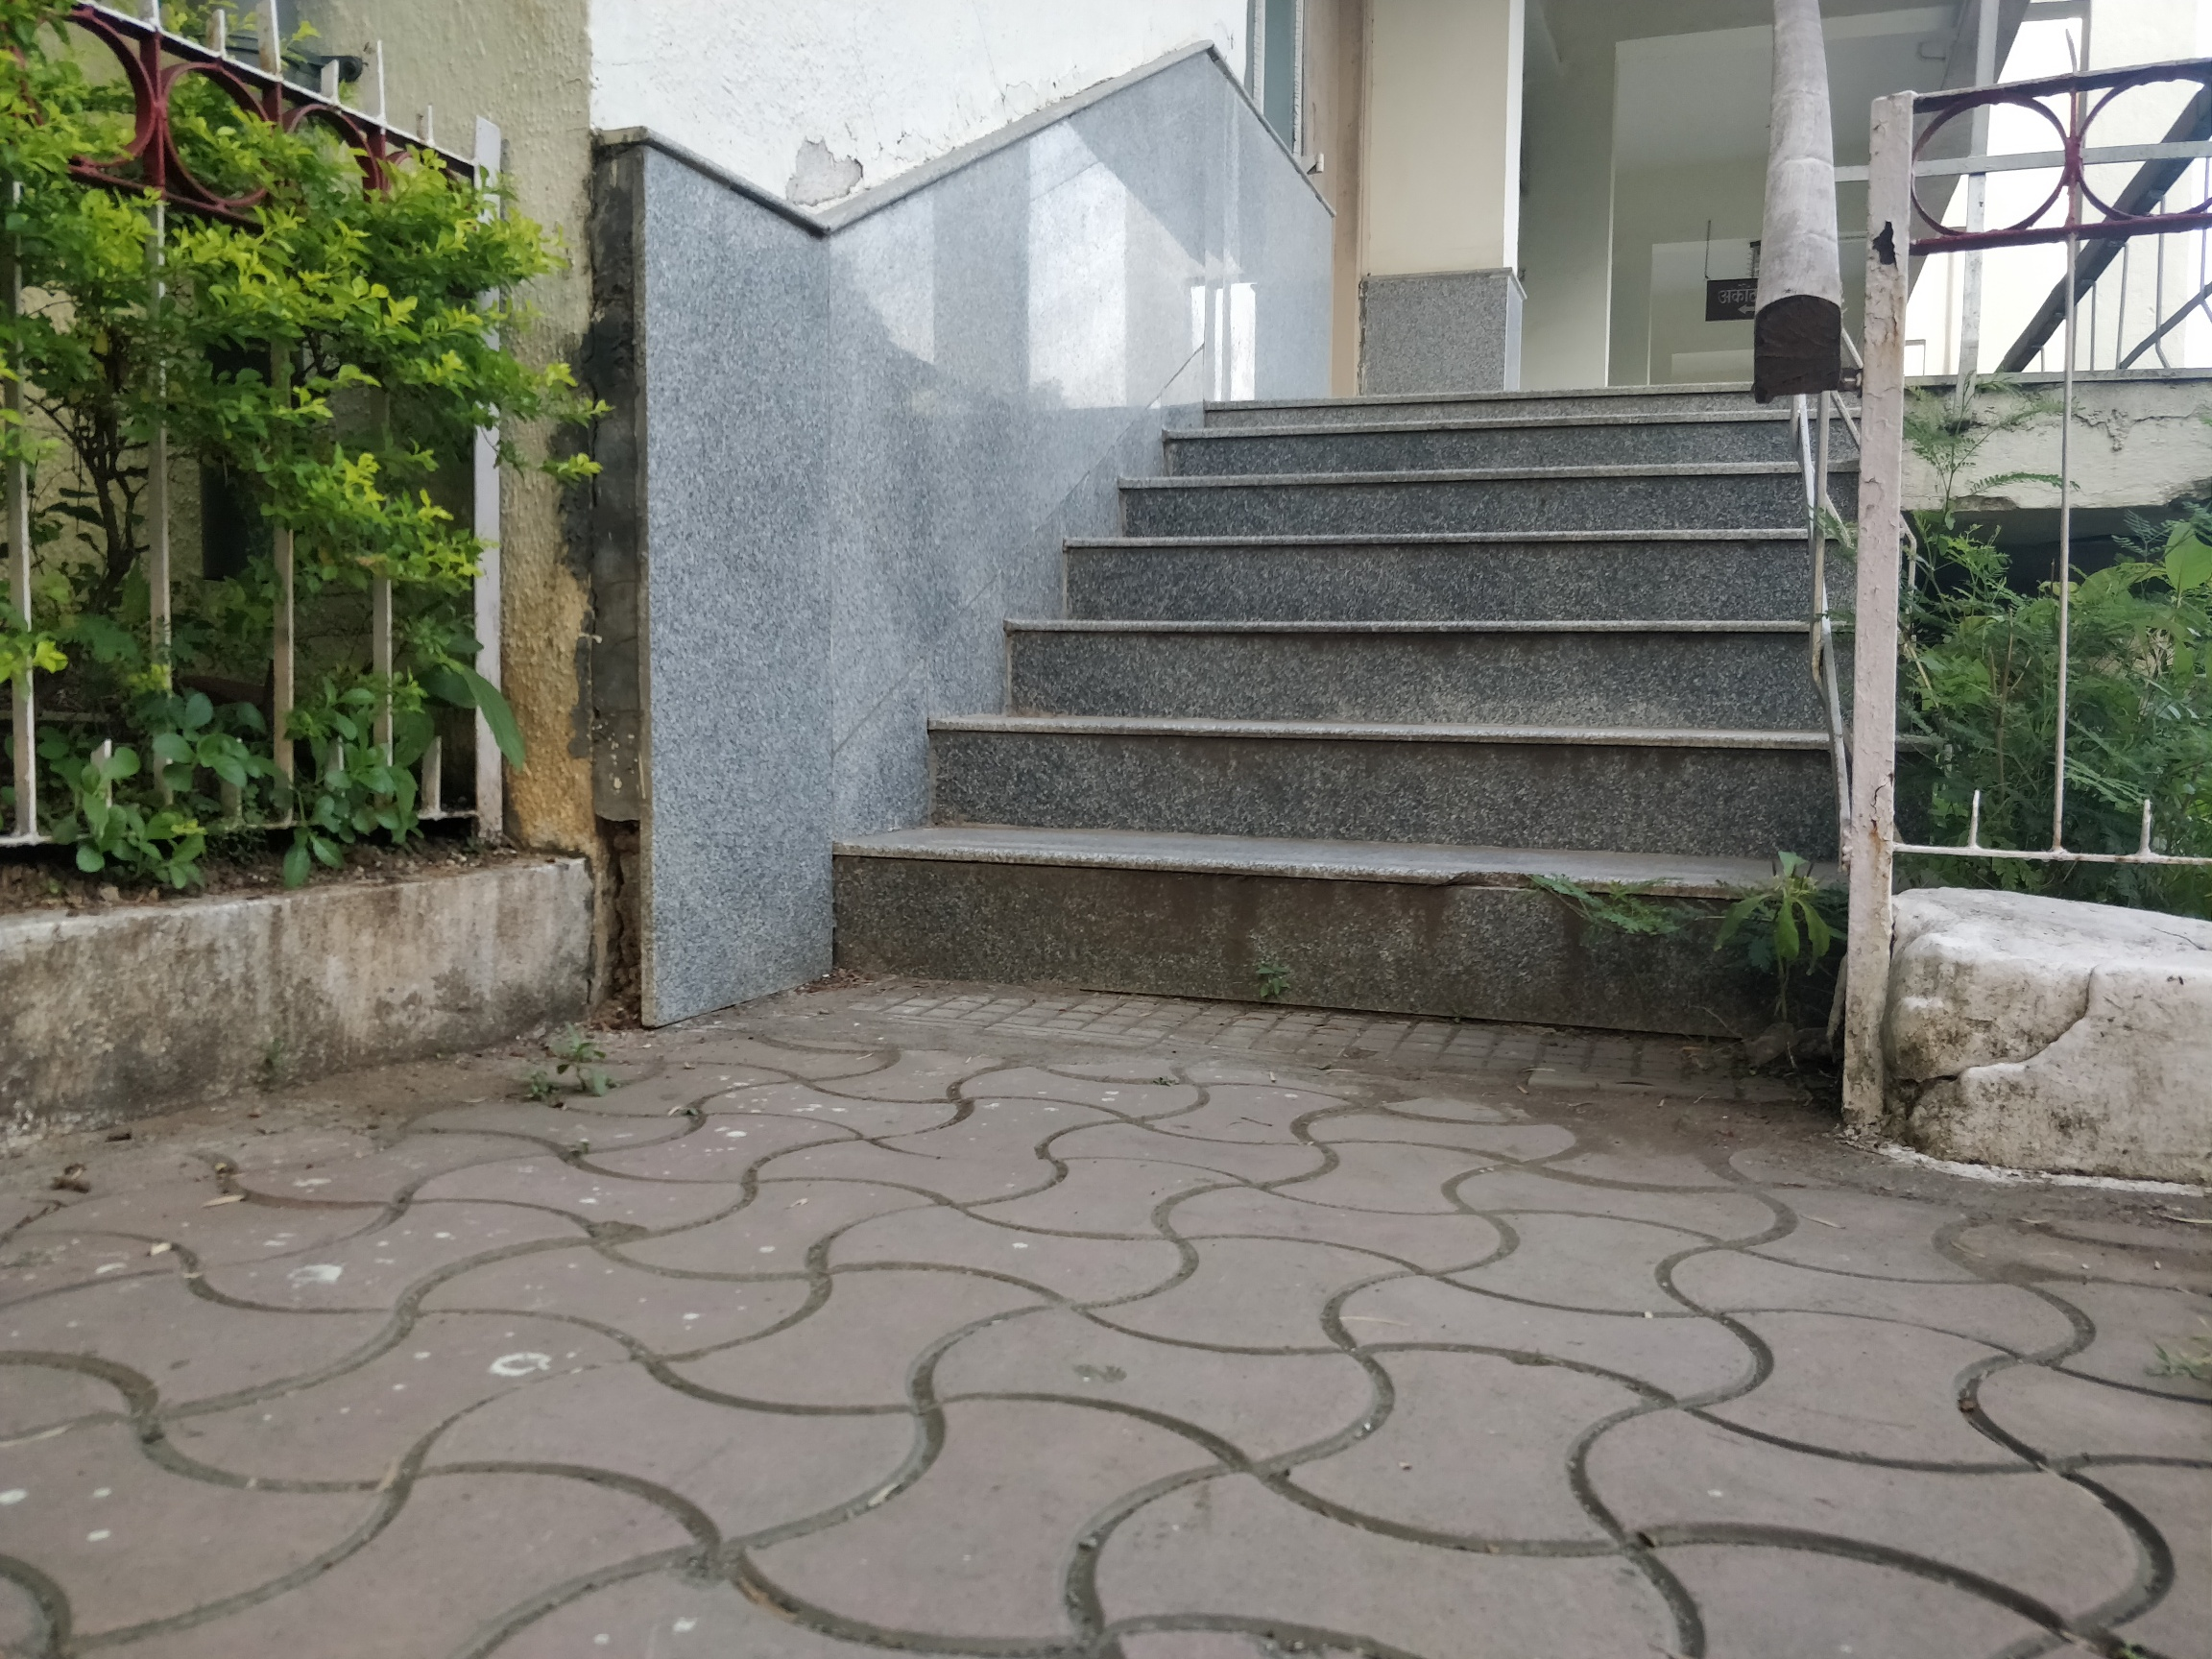stairs_up: (798, 345, 1885, 1049)
